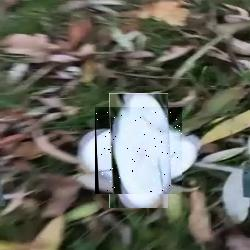plastic: (95, 107, 182, 194)
